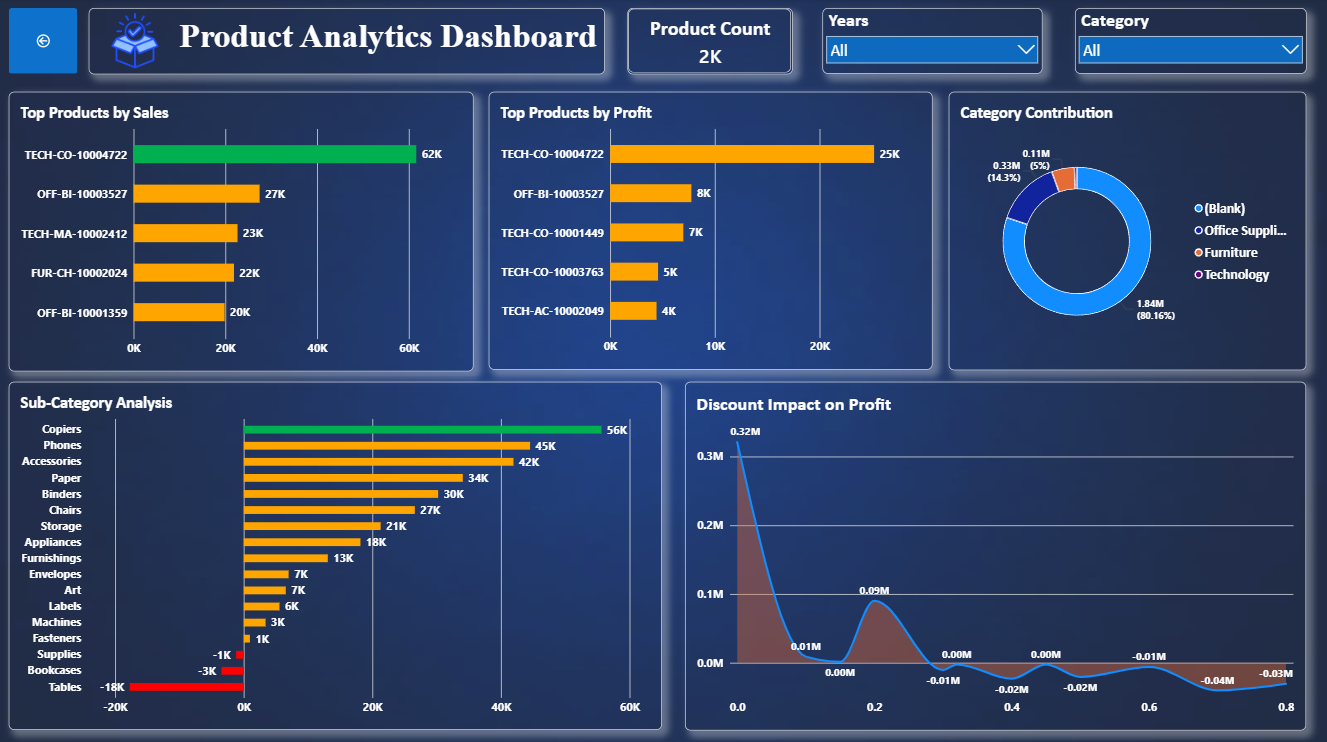

What the dashboard file says about the page in this screenshot:
{"tool":"powerbi","page":{"name":"Product","canvas":[1920,1080],"ordinal":4},"visuals":[{"type":"textbox","box":[128.5,14.5,747.4,95.9],"z":0},{"type":"barChart","title":"Top Products by Sales","fields":{"Category":["Data.Product ID"],"Y":["Sum(Data.Sales)"]},"box":[13,136.3,673,404.7],"z":1000},{"type":"barChart","title":"Top Products by Profit","fields":{"Category":["Data.Product ID"],"Y":["Sum(Data.Profit)"]},"box":[707.7,136.3,642.8,402.5],"z":2000},{"type":"donutChart","title":"Category Contribution","fields":{"Category":["Abbreviations.Category"],"Y":["Sum(Data.Sales)"]},"box":[1373.5,135.7,517.6,403.6],"z":3000},{"type":"clusteredBarChart","title":"Sub-Category Analysis","fields":{"Category":["Abbreviations.Sub-Category"],"Y":["Sum(Data.Profit)"]},"box":[13,556.2,945.7,504.2],"z":4000},{"type":"lineChart","title":"Discount Impact on Profit","fields":{"Category":["Data.Discount"],"Y":["Sum(Data.Profit)"]},"box":[991.7,555.6,899.4,504.9],"z":5000},{"type":"slicer","fields":{"Values":["Abbreviations.Category"]},"box":[1556,15.1,335.4,95.2],"z":6000},{"type":"cardVisual","fields":{"Data":["Data.Product Count"]},"box":[908.4,14.5,238.9,95.9],"z":7000},{"type":"image","box":[112.5,21.6,166.6,80.1],"z":8000},{"type":"slicer","fields":{"Values":["Data.Years"]},"box":[1190.3,15.1,318.1,95.2],"z":9000},{"type":"actionButton","box":[13,15.1,99.6,95.2],"z":9001}]}

Visuals, with their boxes in screenshot pixels (x1, y1, x2, y2), scaled from the page's 1920x1080 canvas onto the 1327x742 screenshot:
textbox: x1=89 y1=10 x2=605 y2=76
"Top Products by Sales" barChart: x1=9 y1=94 x2=474 y2=372
"Top Products by Profit" barChart: x1=489 y1=94 x2=933 y2=370
"Category Contribution" donutChart: x1=949 y1=93 x2=1307 y2=371
"Sub-Category Analysis" clusteredBarChart: x1=9 y1=382 x2=663 y2=729
"Discount Impact on Profit" lineChart: x1=685 y1=382 x2=1307 y2=729
slicer - Abbreviations.Category: x1=1075 y1=10 x2=1307 y2=76
cardVisual - Data.Product Count: x1=628 y1=10 x2=793 y2=76
image: x1=78 y1=15 x2=193 y2=70
slicer - Data.Years: x1=823 y1=10 x2=1043 y2=76
actionButton: x1=9 y1=10 x2=78 y2=76
